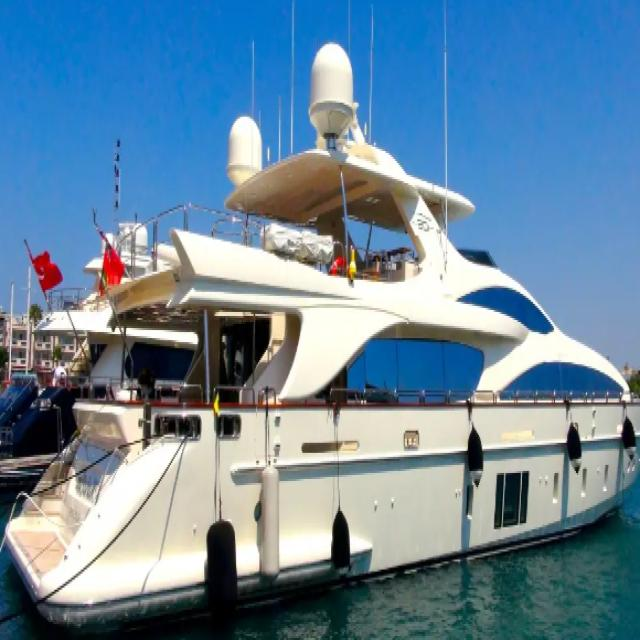houseboat: (9, 80, 640, 624)
